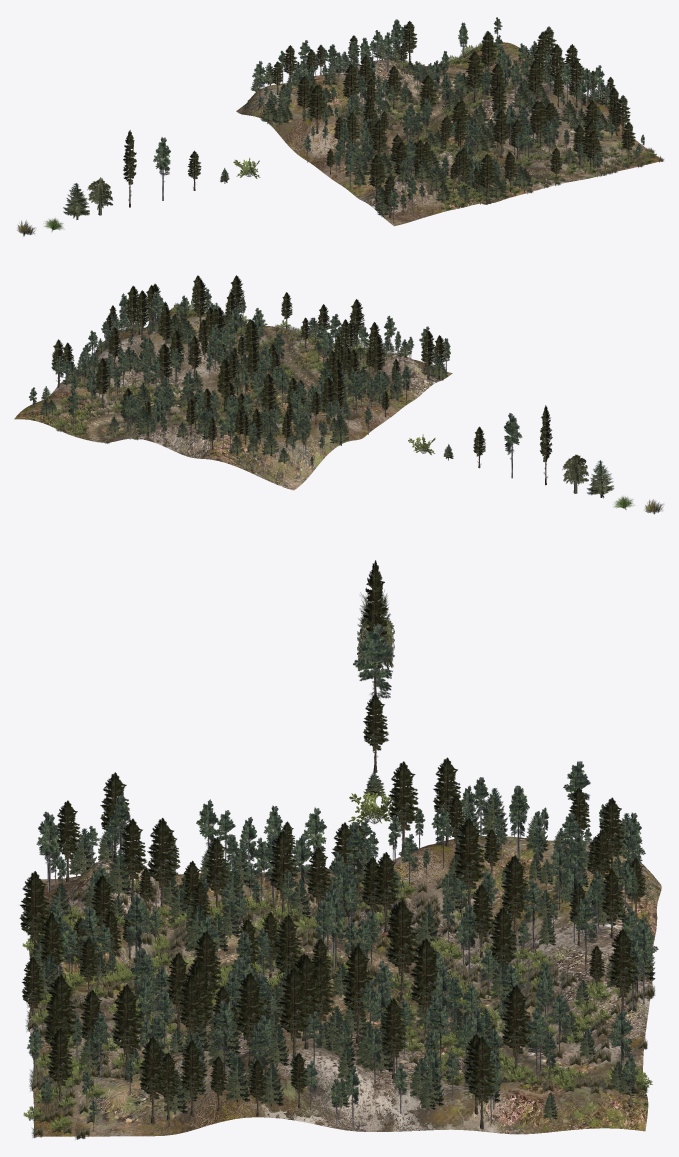
Rendered from forest-road-night.glb.
3 renders of one model, top to bottom at view 1: azimuth 30°, elevation 25°; view 2: azimuth 150°, elevation 25°; view 3: azimuth 270°, elevation 25°, orthographic. The views are drawn at different scales.
Visible parts, largest first — view 1: 05ade0e713892be558511d706fa6c547-no-bg-preview (carve.photos, Plane.002_Material.003_0, Cylinder.001_Material.004_0; view 2: 05ade0e713892be558511d706fa6c547-no-bg-preview (carve.photos, Plane.002_Material.003_0, Cylinder.001_Material.004_0; view 3: 05ade0e713892be558511d706fa6c547-no-bg-preview (carve.photos, Plane.002_Material.003_0, Cylinder.001_Material.004_0.
Part boxes in pixels (<box>): 05ade0e713892be558511d706fa6c547-no-bg-preview (carve.photos: <box>17,17,663,236</box>; Plane.002_Material.003_0: <box>236,42,662,226</box>; Cylinder.001_Material.004_0: <box>129,29,629,218</box>; 05ade0e713892be558511d706fa6c547-no-bg-preview (carve.photos: <box>28,275,663,514</box>; Plane.002_Material.003_0: <box>14,306,452,490</box>; Cylinder.001_Material.004_0: <box>57,278,546,485</box>; 05ade0e713892be558511d706fa6c547-no-bg-preview (carve.photos: <box>19,560,658,1139</box>; Plane.002_Material.003_0: <box>29,836,661,1136</box>; Cylinder.001_Material.004_0: <box>32,564,637,1129</box>.
Size of the model in its own units: 19.24 by 2.85 by 9.74.
3 materials, 3 textured.
